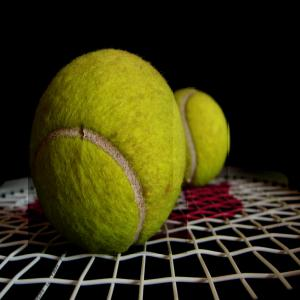TennisBall: (29, 47, 189, 256), (175, 89, 231, 190)
